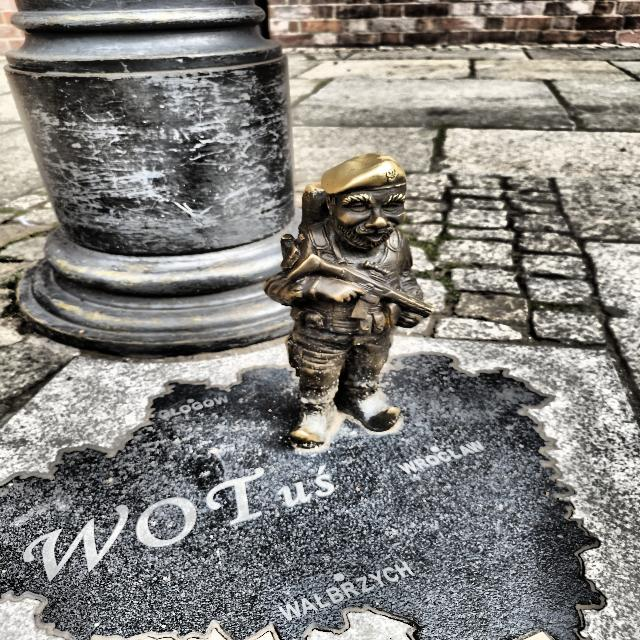WOTus: (265, 154, 423, 449)
